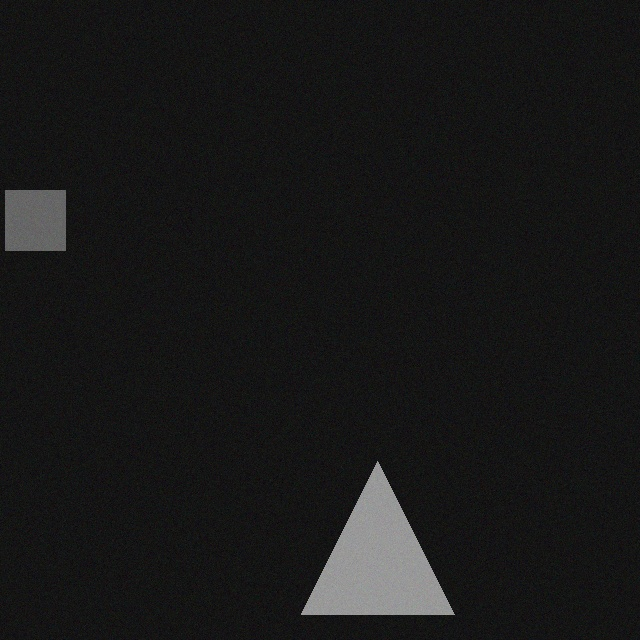square: (7, 183, 67, 243)
triangle: (303, 454, 456, 607)
